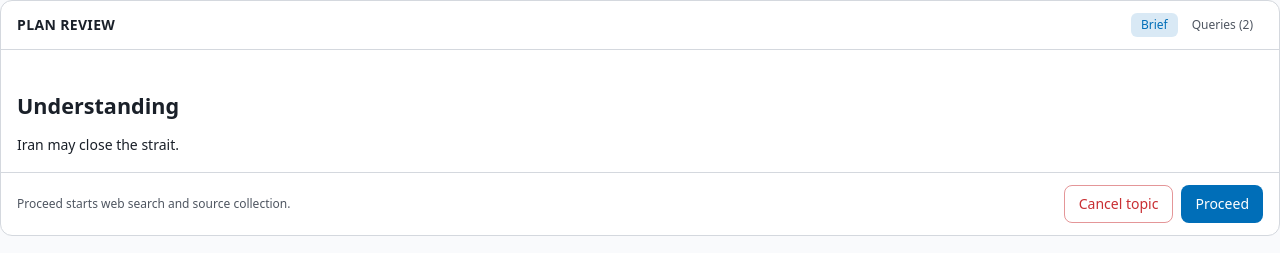
Scenario: PlanReview › shows the query plan with its count on the tab
This screenshot has width=1280, height=253.
Click the tab "Queries (2)" at (1222, 25), box [1182,13,1263,37]
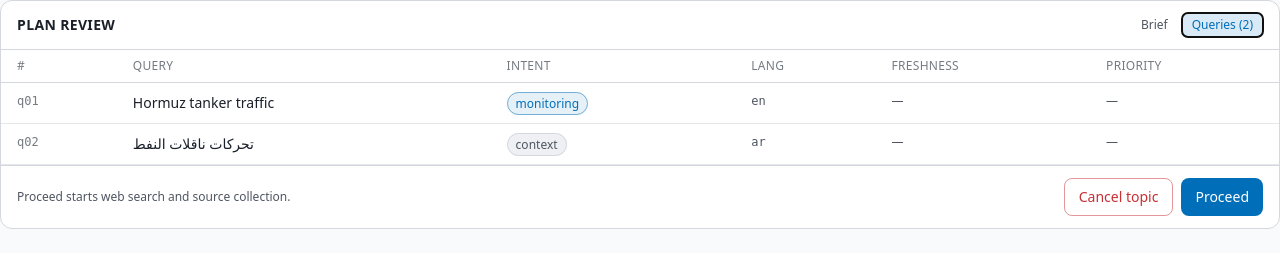
Check: the text "Hormuz tanker traffic" is shown, box [133,93,274,112]
Check: the text "تحركات ناقلات النفط" is shown, box [133,134,254,153]
